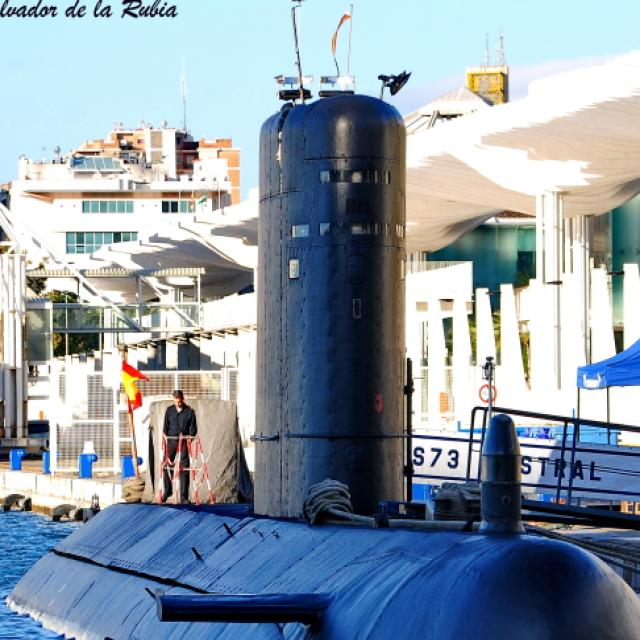submarine: (7, 91, 640, 640)
